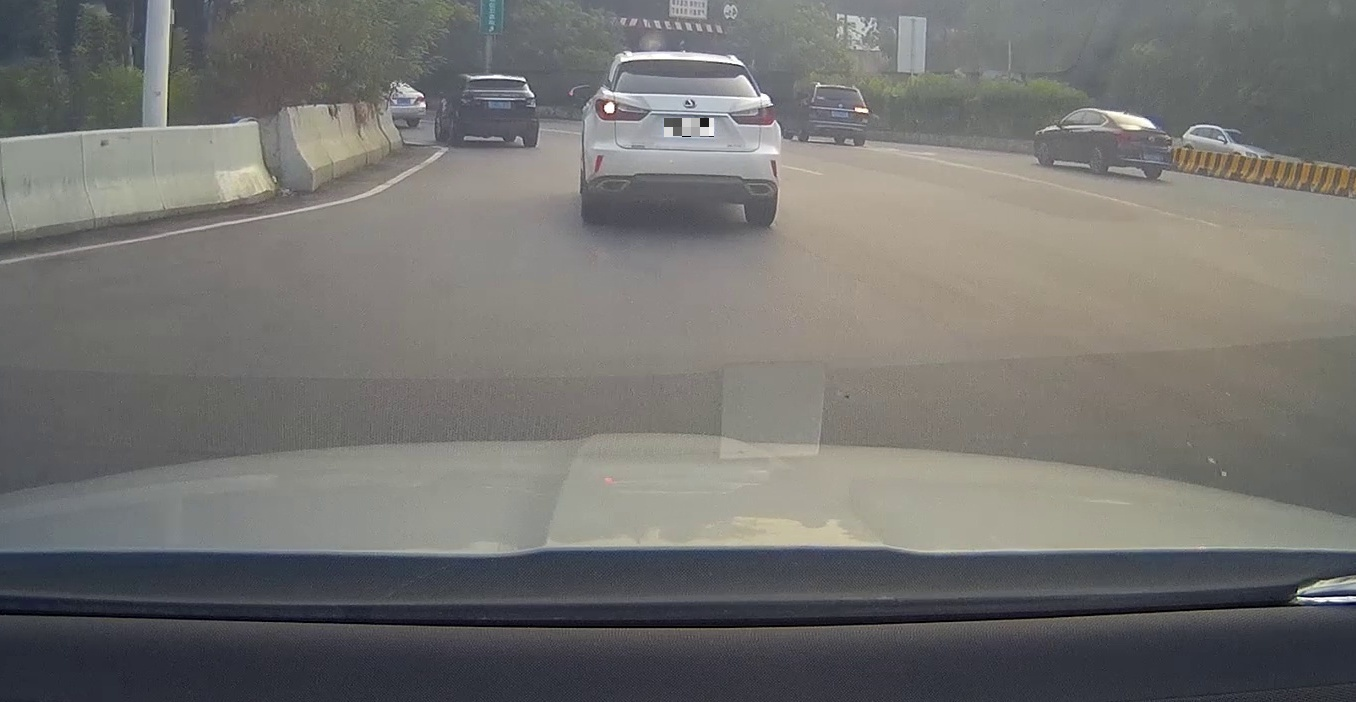L_light: (594, 99, 651, 120), (1114, 132, 1136, 142), (462, 97, 476, 105), (809, 102, 823, 109)
R_light: (729, 104, 776, 126), (525, 97, 537, 107), (854, 107, 868, 114), (1163, 137, 1171, 145)
T_light: (667, 58, 700, 65), (490, 78, 506, 81), (833, 87, 843, 90), (1119, 115, 1132, 117)
day-left: (585, 51, 782, 225)
day-no: (461, 74, 538, 147), (1101, 109, 1172, 180)
day-right: (808, 83, 869, 146)
plate_1: (664, 118, 714, 137)
